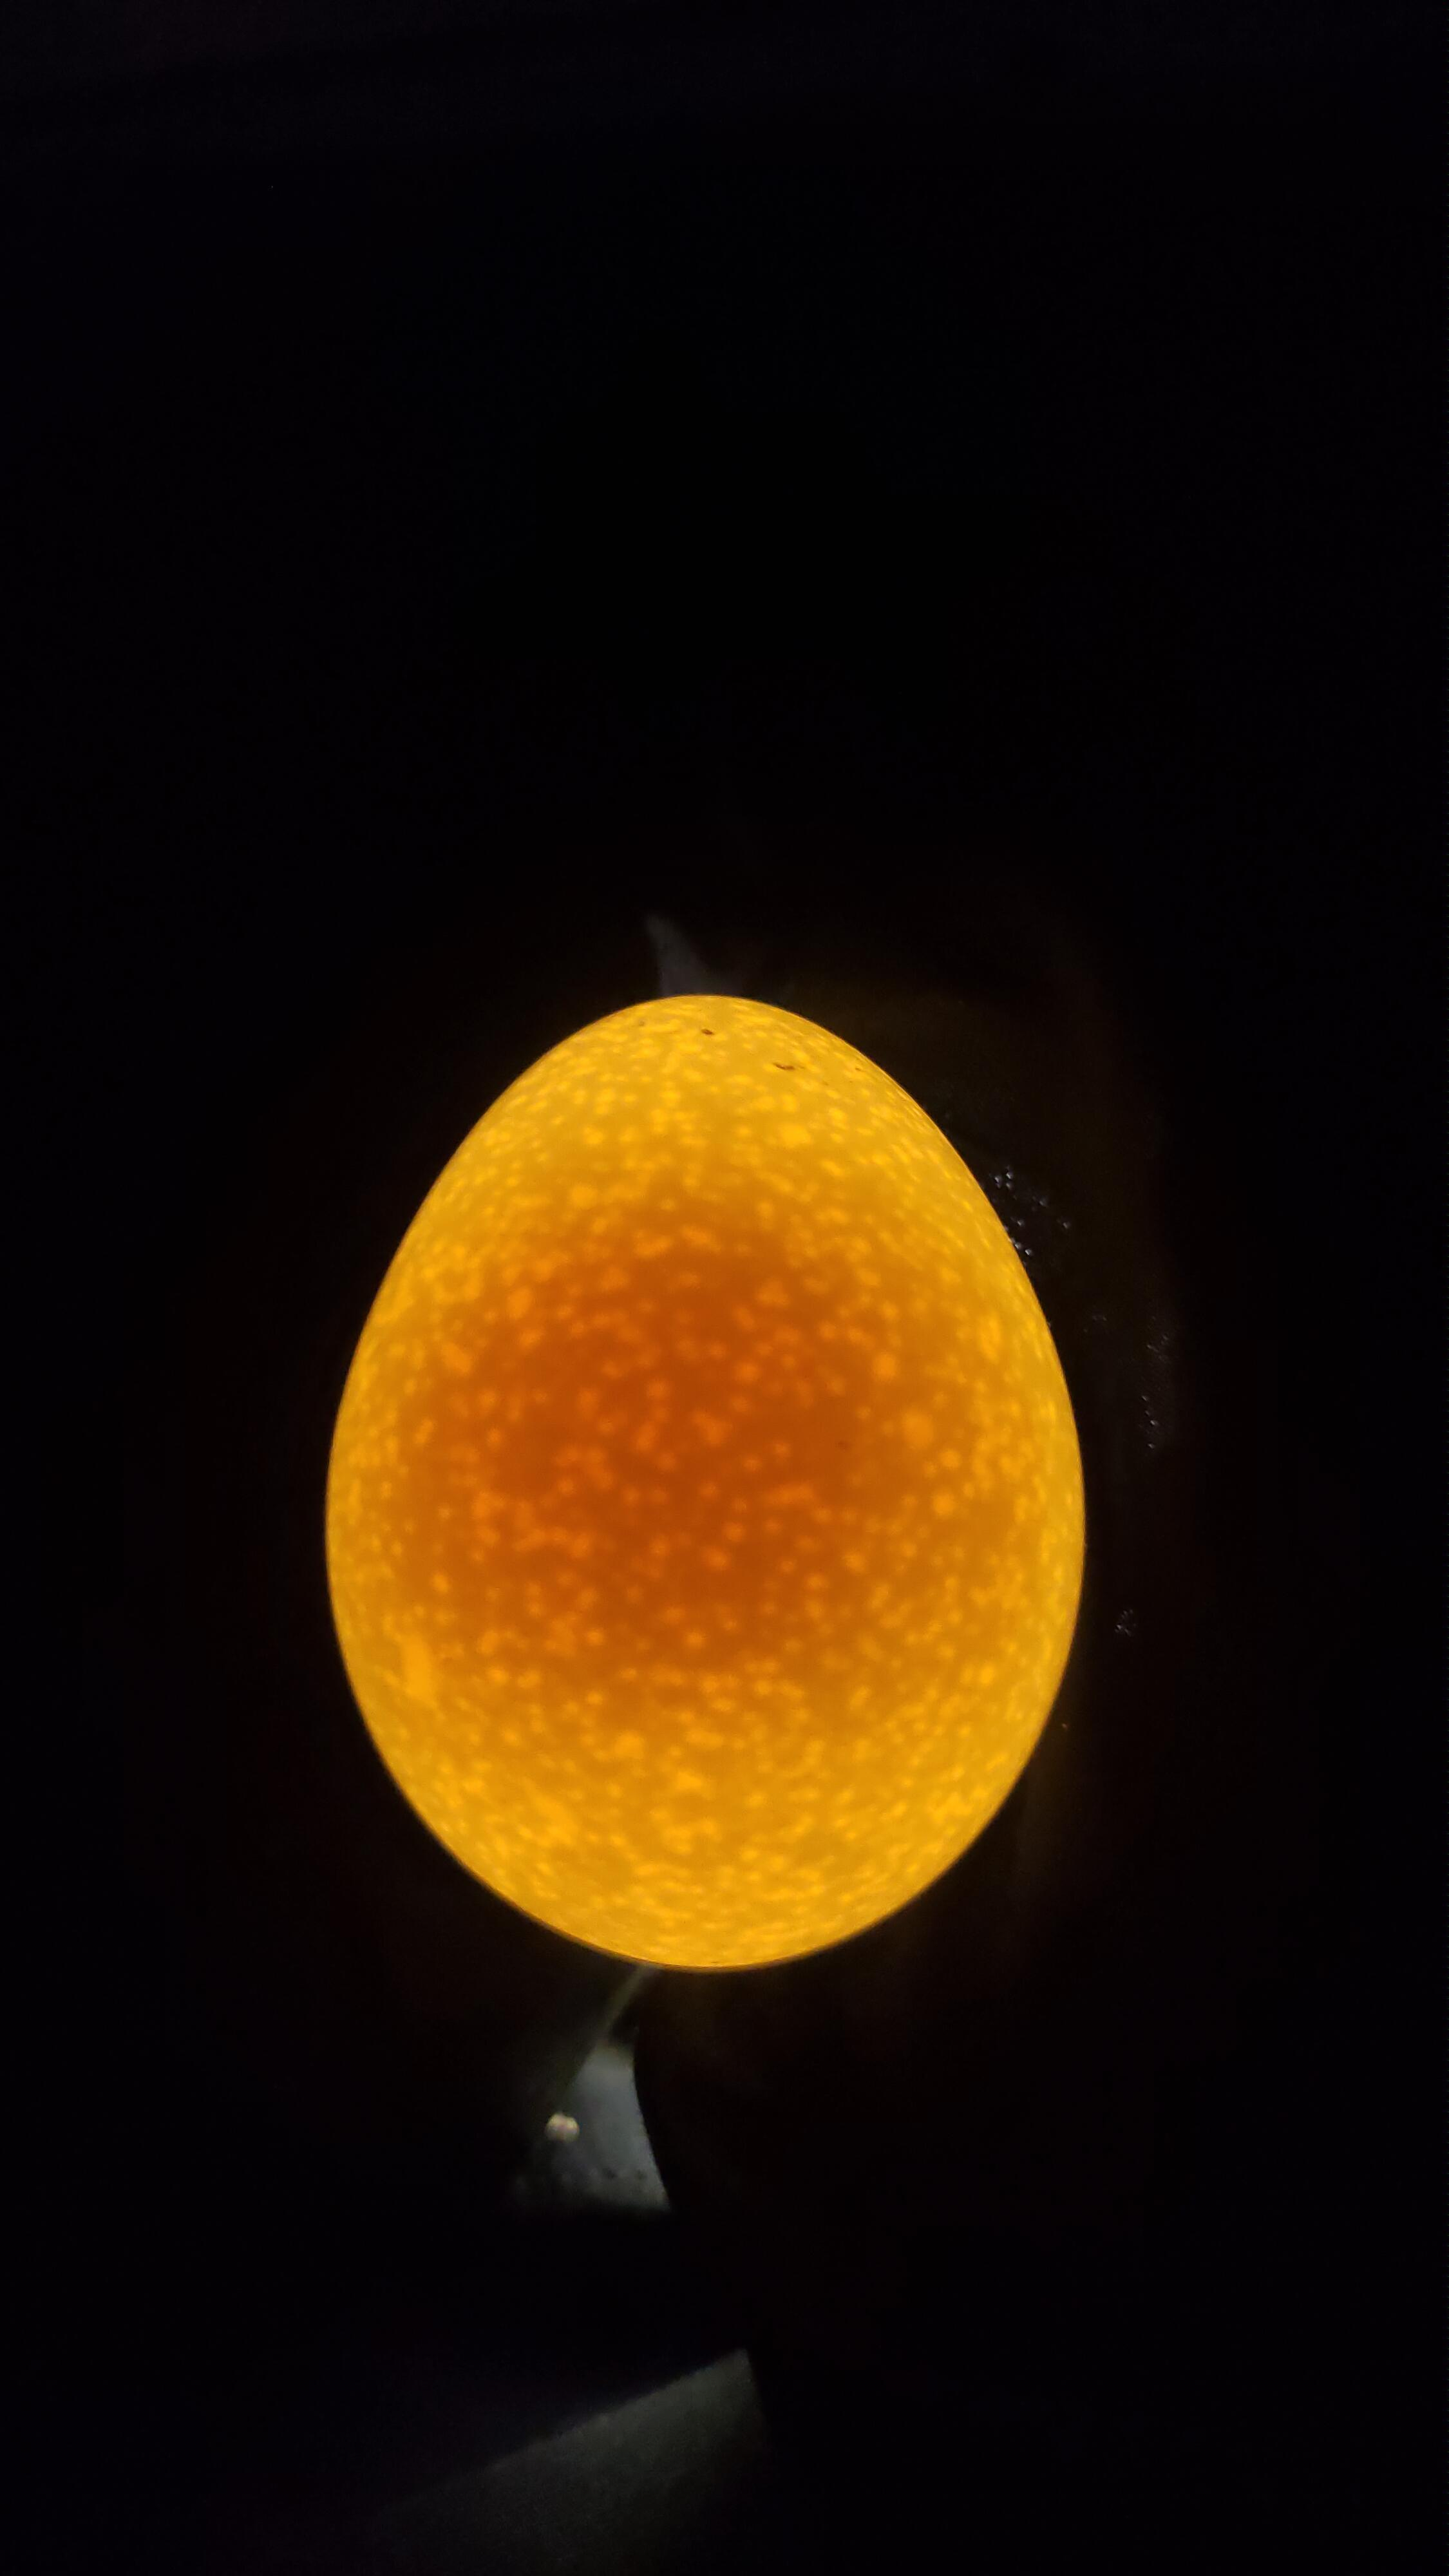A - Good: (310, 959, 1120, 1990)
